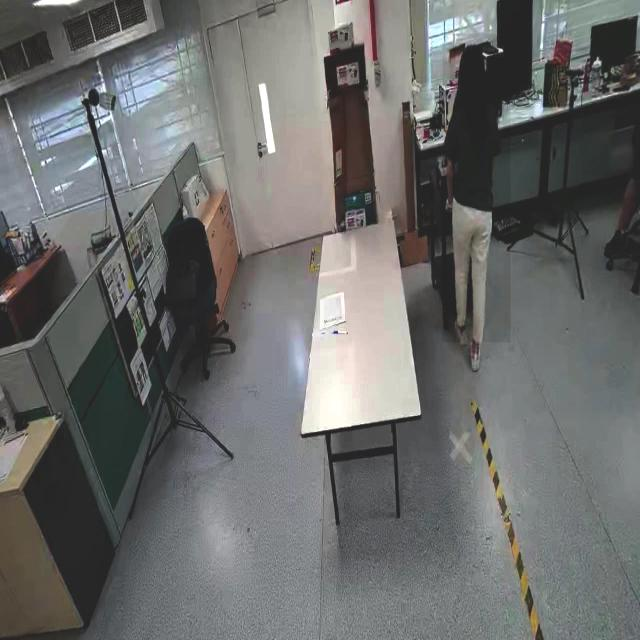head_nohelmet: (460, 44, 484, 65)
person: (442, 34, 510, 343)
